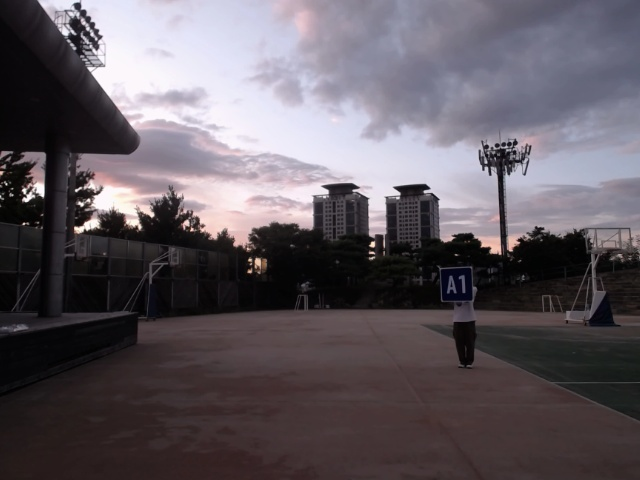delivery_a1: (440, 267, 473, 302)
